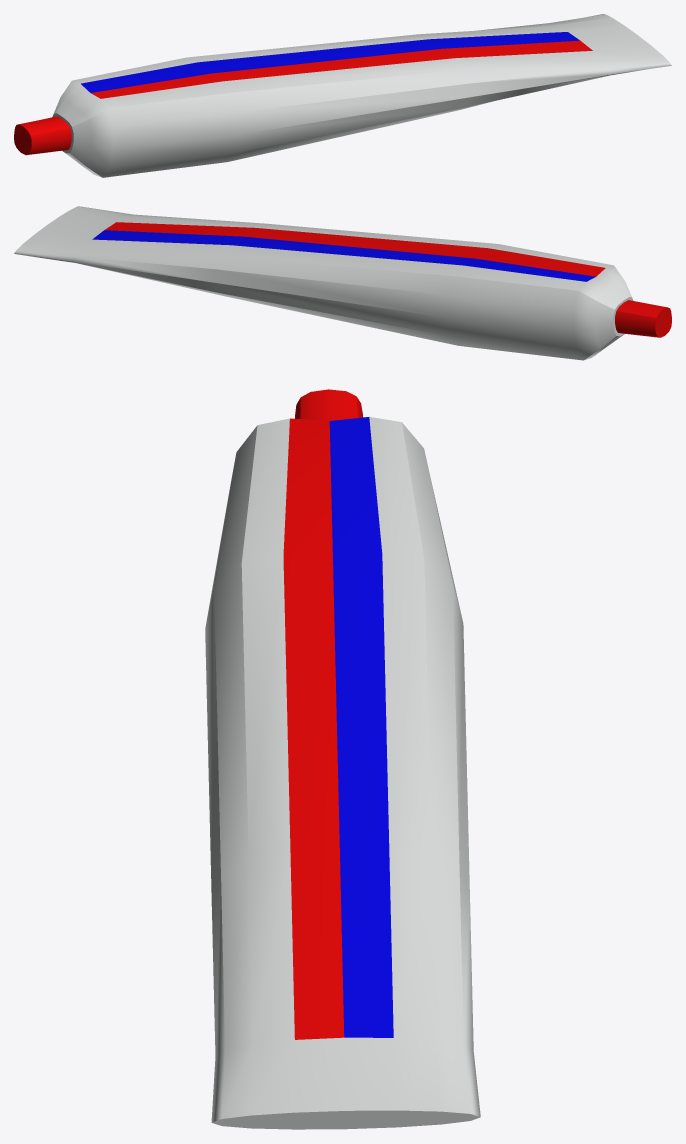
Rendered from Toothpaste.fbx.
3 renders of one model, top to bottom at view 1: azimuth 30°, elevation 25°; view 2: azimuth 150°, elevation 25°; view 3: azimuth 270°, elevation 25°, orthographic. The views are drawn at different scales.
Parts seen in each view (by area): view 1: pCylinder1; view 2: pCylinder1; view 3: pCylinder1.
Boxes of the visible parts, x1,y1,x2,y2 form: pCylinder1: (14, 14, 671, 177); pCylinder1: (14, 206, 671, 360); pCylinder1: (205, 389, 480, 1129).
Size of the model in its own units: 5.33 by 0.7584 by 1.04.
